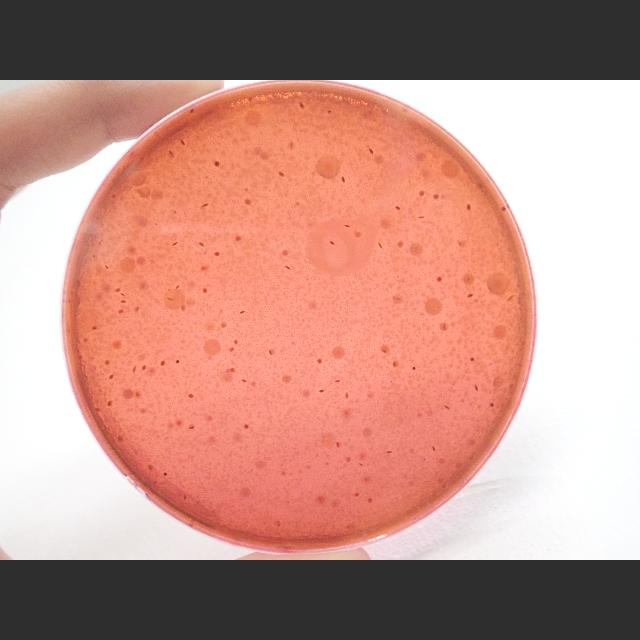colony: (244, 198, 252, 206), (418, 189, 426, 197), (132, 364, 138, 374), (298, 100, 304, 110), (432, 193, 440, 200), (198, 240, 205, 248), (340, 174, 346, 183), (179, 138, 185, 146), (213, 160, 219, 168), (168, 149, 174, 157), (278, 170, 284, 178), (466, 203, 472, 211), (436, 275, 442, 283), (107, 399, 113, 407), (104, 358, 110, 366), (234, 235, 242, 241), (201, 202, 209, 208), (367, 496, 373, 504), (444, 404, 451, 410), (213, 251, 220, 257), (368, 148, 374, 154), (395, 205, 401, 211), (329, 240, 335, 246), (317, 358, 323, 364), (344, 392, 350, 398), (318, 388, 324, 394), (160, 360, 166, 366), (243, 423, 249, 429), (108, 374, 114, 380), (92, 326, 98, 332), (118, 308, 124, 314), (189, 108, 195, 114), (285, 265, 291, 271), (506, 202, 510, 210), (466, 294, 474, 298), (474, 384, 478, 392), (393, 360, 397, 368), (120, 300, 128, 304), (238, 310, 246, 314), (268, 348, 272, 356), (432, 444, 436, 452), (344, 224, 351, 228), (188, 394, 195, 398), (418, 215, 424, 219), (500, 206, 506, 210), (378, 242, 382, 248), (470, 356, 474, 362), (490, 402, 494, 408), (233, 340, 239, 344), (230, 346, 234, 352), (241, 378, 247, 382), (188, 426, 194, 430), (142, 364, 146, 370), (120, 292, 126, 296), (105, 264, 109, 270), (172, 242, 178, 246), (202, 288, 206, 294), (176, 284, 180, 290), (136, 306, 140, 312), (326, 110, 332, 114), (336, 442, 340, 448), (386, 450, 392, 454), (354, 492, 358, 498), (183, 494, 187, 500), (412, 366, 416, 370), (175, 360, 179, 364), (116, 288, 120, 292), (359, 462, 363, 466), (163, 472, 167, 476), (334, 380, 340, 382), (423, 457, 425, 461), (154, 481, 156, 484)
